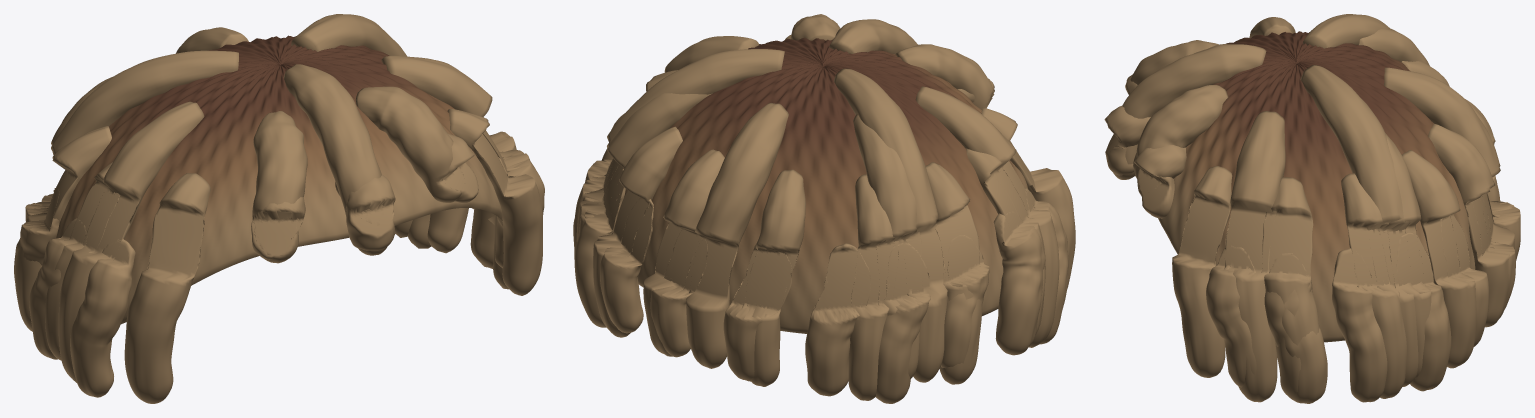
The model's file is Masculine-locs-headband260-hair-ombre.glb.
3 renders of one model, left to right at view 1: azimuth 30°, elevation 25°; view 2: azimuth 150°, elevation 25°; view 3: azimuth 270°, elevation 25°, orthographic. The views are drawn at different scales.
Parts seen in each view (by area): view 1: 226 hair / Hair260 / mature compact locs; view 2: 226 hair / Hair260 / mature compact locs; view 3: 226 hair / Hair260 / mature compact locs.
Part boxes in pixels (x1=…): 226 hair / Hair260 / mature compact locs: x1=14, y1=14, x2=544, y2=403; 226 hair / Hair260 / mature compact locs: x1=573, y1=14, x2=1075, y2=403; 226 hair / Hair260 / mature compact locs: x1=1104, y1=14, x2=1520, y2=403.
Bounding box in the file's own units: 1.14 × 0.6578 × 0.9235.
